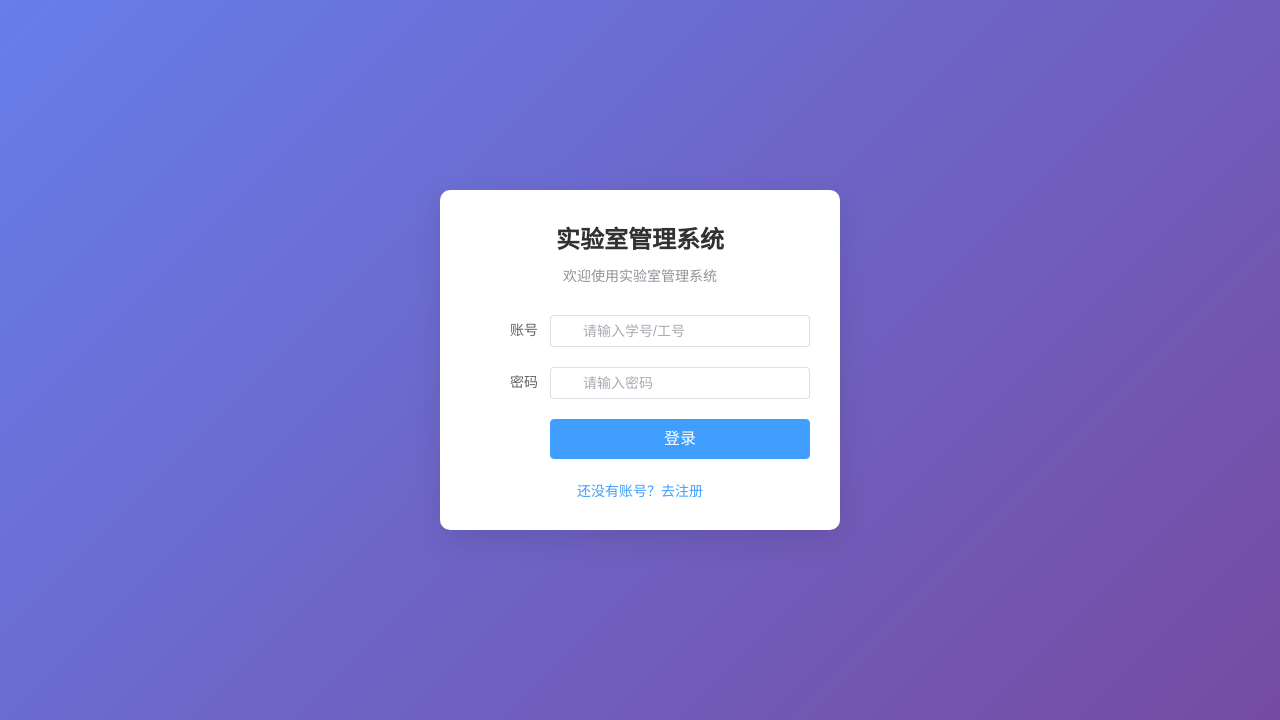
Test: 实验室管理系统 - 登录功能 › 空输入应该提示
This screenshot has width=1280, height=720.
Click the button "登录" at (680, 439), box [550, 419, 810, 459]
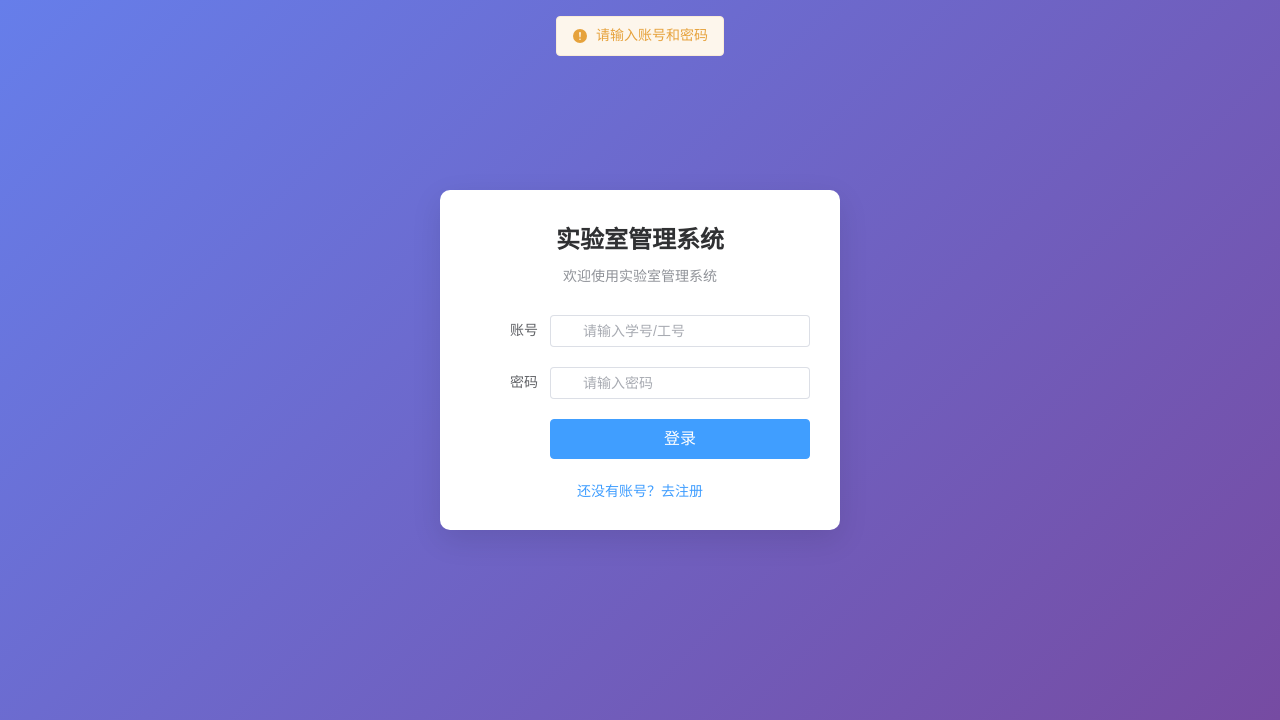
Expected: the text "请输入账号和密码" is shown, [596, 29, 708, 43]
